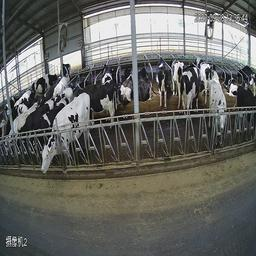cow: (35, 90, 93, 185), (16, 84, 55, 136), (208, 68, 229, 147), (5, 106, 31, 165), (179, 61, 203, 121), (235, 75, 255, 143), (88, 76, 116, 121), (154, 47, 169, 114), (31, 63, 60, 97), (116, 59, 134, 108), (138, 60, 153, 105), (222, 62, 239, 95), (170, 51, 183, 87), (60, 56, 73, 80)
